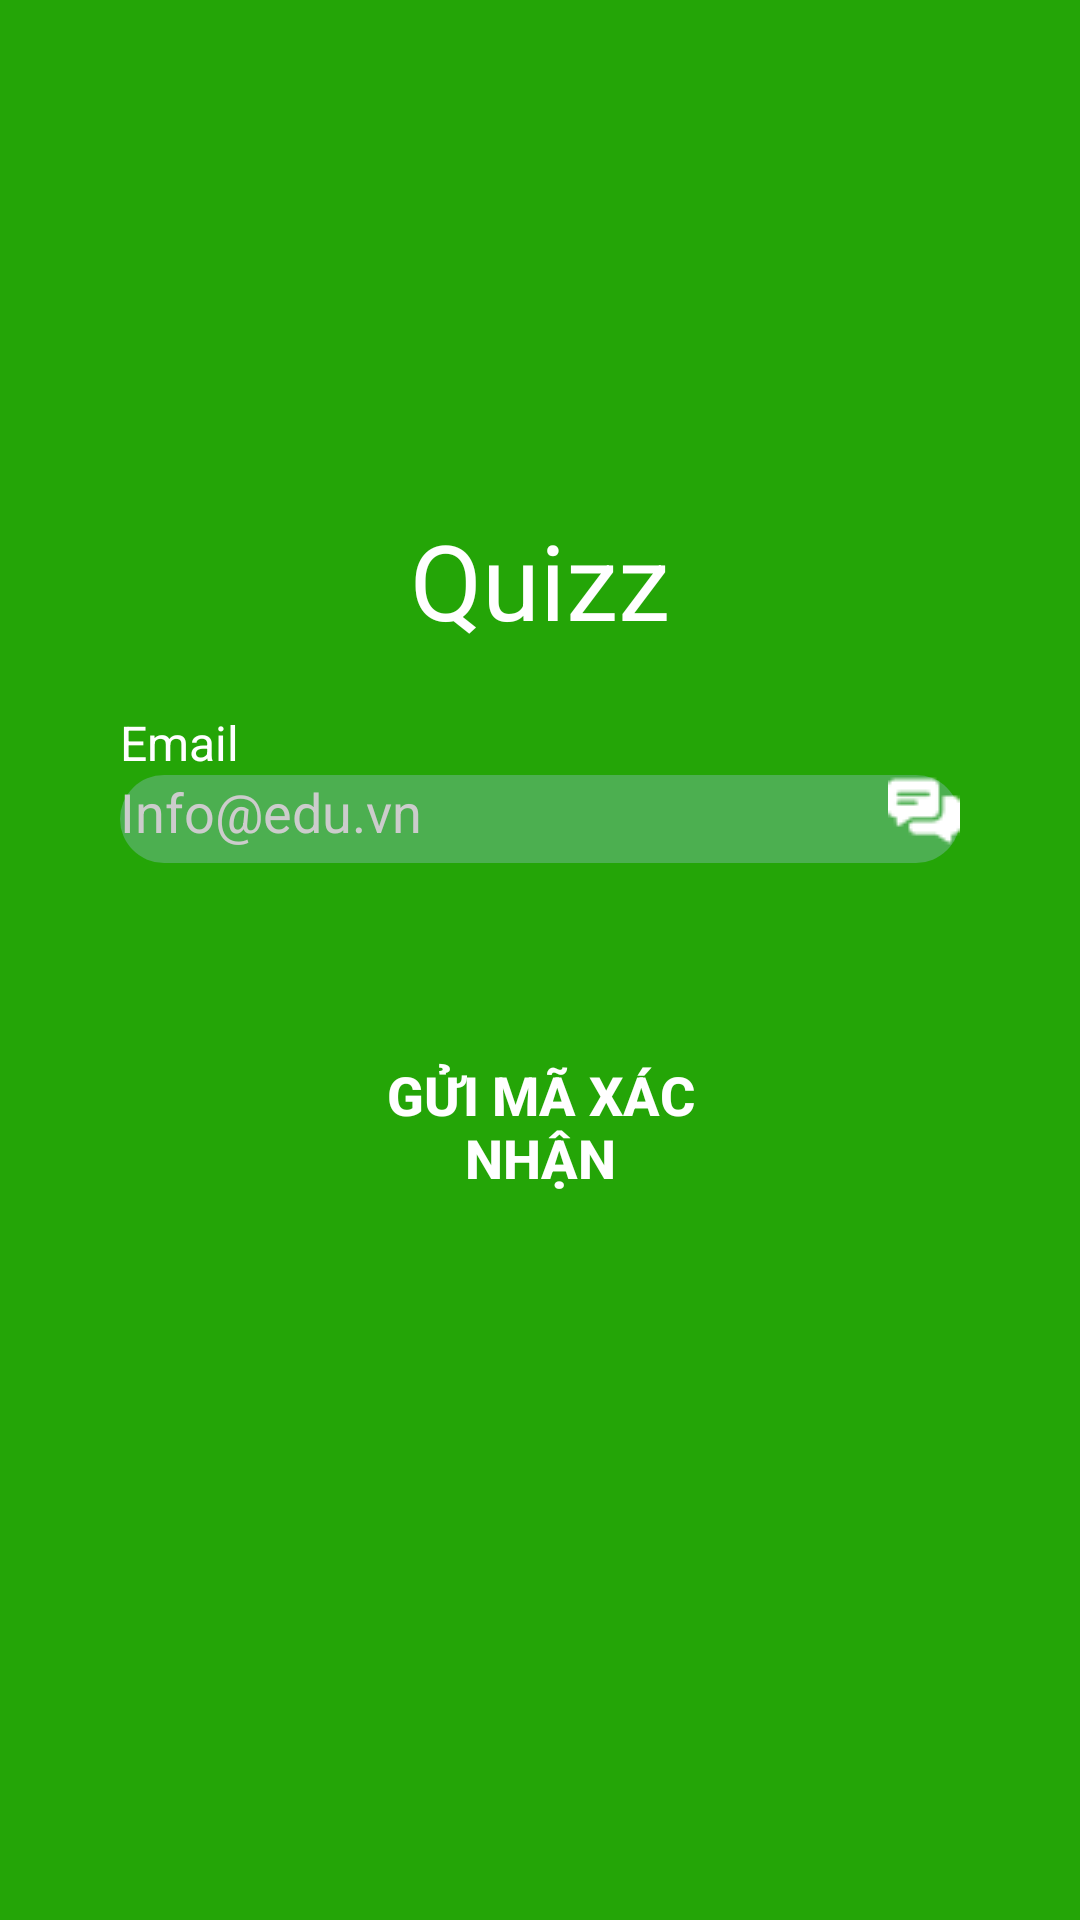

Where to tap for icons on this 1080 x 1920 app screen, as point (x, y):
chat: point (924, 811)
